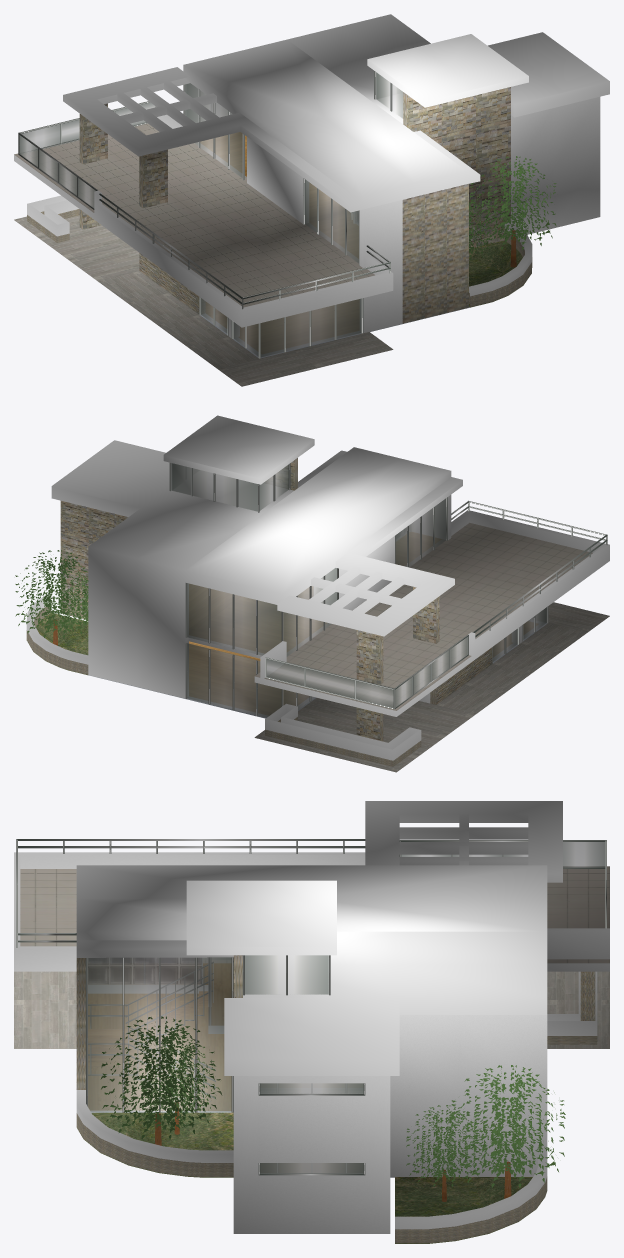
The model's file is new_house.obj.
3 renders of one model, top to bottom at view 1: azimuth 30°, elevation 25°; view 2: azimuth 150°, elevation 25°; view 3: azimuth 270°, elevation 25°, orthographic. The views are drawn at different scales.
Visible parts, largest first — view 1: copertura, parete_interna, pavimento_terrazza, RIVESTIMENTO, pavimento_esterno, vetro, pergola, pavimento, cromato, foglie, pilastri, pannello_par (+2 smaller); view 2: copertura, pavimento_terrazza, vetro, parete_interna, pavimento, pavimento_esterno, pergola, RIVESTIMENTO, cromato, pannello_par, pilastri, foglie (+2 smaller); view 3: copertura, parete_interna, vetro, foglie, pergola, pavimento_terrazza, prato, pavimento, RIVESTIMENTO, pavimento_esterno, cromato, vetro_mattone (+3 smaller).
Part boxes in pixels (x1=…): copertura: x1=183, y1=14, x2=609, y2=212; parete_interna: x1=14, y1=97, x2=600, y2=337; pavimento_terrazza: x1=14, y1=123, x2=374, y2=307; RIVESTIMENTO: x1=27, y1=87, x2=532, y2=323; pavimento_esterno: x1=14, y1=215, x2=393, y2=386; vetro: x1=185, y1=72, x2=403, y2=357; pergola: x1=63, y1=67, x2=252, y2=156; pavimento: x1=200, y1=132, x2=359, y2=353; cromato: x1=18, y1=71, x2=392, y2=358; foglie: x1=469, y1=156, x2=556, y2=260; pilastri: x1=79, y1=103, x2=167, y2=229; pannello_par: x1=19, y1=102, x2=155, y2=208; copertura: x1=51, y1=415, x2=462, y2=698; pavimento_terrazza: x1=255, y1=522, x2=592, y2=710; vetro: x1=171, y1=463, x2=546, y2=717; parete_interna: x1=26, y1=495, x2=609, y2=760; pavimento: x1=189, y1=532, x2=537, y2=715; pavimento_esterno: x1=254, y1=602, x2=609, y2=772; pergola: x1=277, y1=552, x2=454, y2=636; RIVESTIMENTO: x1=26, y1=458, x2=492, y2=766; cromato: x1=169, y1=462, x2=607, y2=715; pannello_par: x1=266, y1=637, x2=467, y2=707; pilastri: x1=356, y1=586, x2=439, y2=741; foglie: x1=15, y1=550, x2=88, y2=638; copertura: x1=76, y1=865, x2=547, y2=1075; parete_interna: x1=14, y1=852, x2=609, y2=1233; vetro: x1=88, y1=955, x2=363, y2=1173; foglie: x1=100, y1=1016, x2=565, y2=1187; pergola: x1=365, y1=801, x2=562, y2=882; pavimento_terrazza: x1=20, y1=866, x2=609, y2=963; prato: x1=77, y1=1112, x2=546, y2=1243; pavimento: x1=88, y1=963, x2=231, y2=1110; RIVESTIMENTO: x1=76, y1=955, x2=597, y2=1243; pavimento_esterno: x1=14, y1=971, x2=609, y2=1048; cromato: x1=16, y1=839, x2=606, y2=1175; vetro_mattone: x1=88, y1=958, x2=202, y2=984.
Bounding box in the file's own units: 713 × 263 × 616.
Materials: 20 (20 with a texture image).
